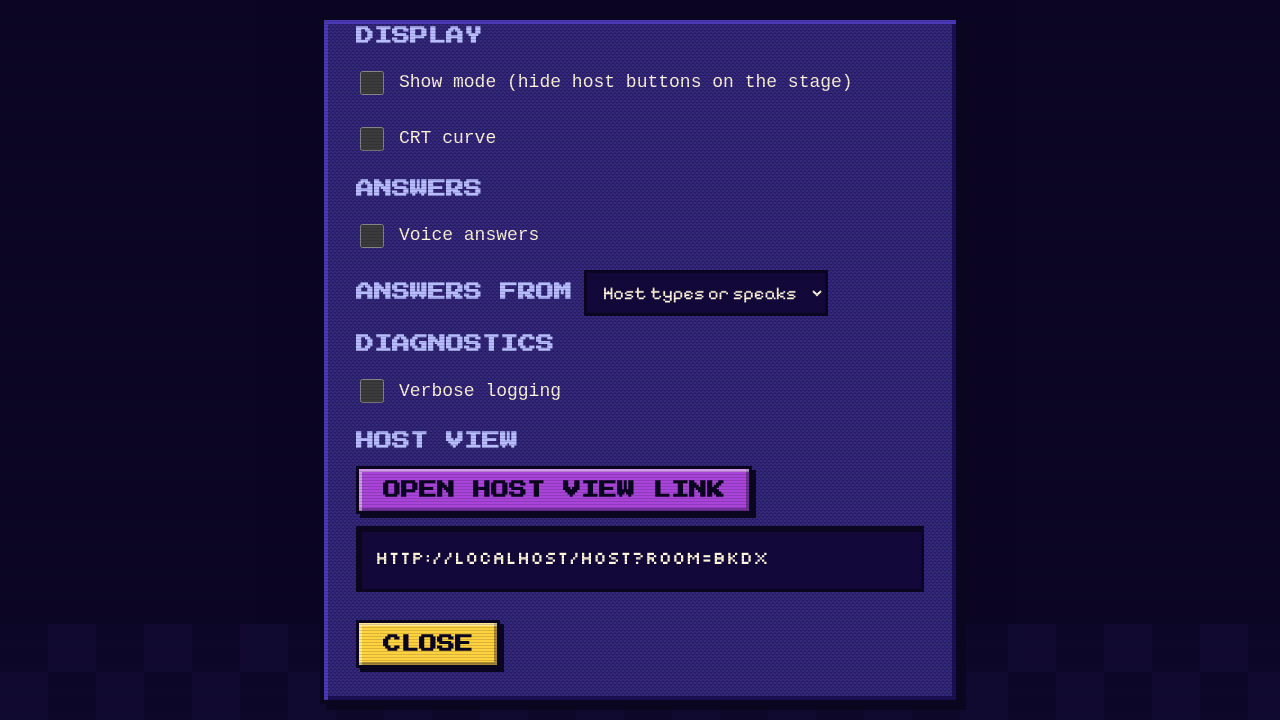
Scenario: SettingsDialog › says so when the clipboard refuses
(page scrolled)
Click the button "Open host view link". click: {"x": 554, "y": 490}
box: [356, 466, 752, 514]
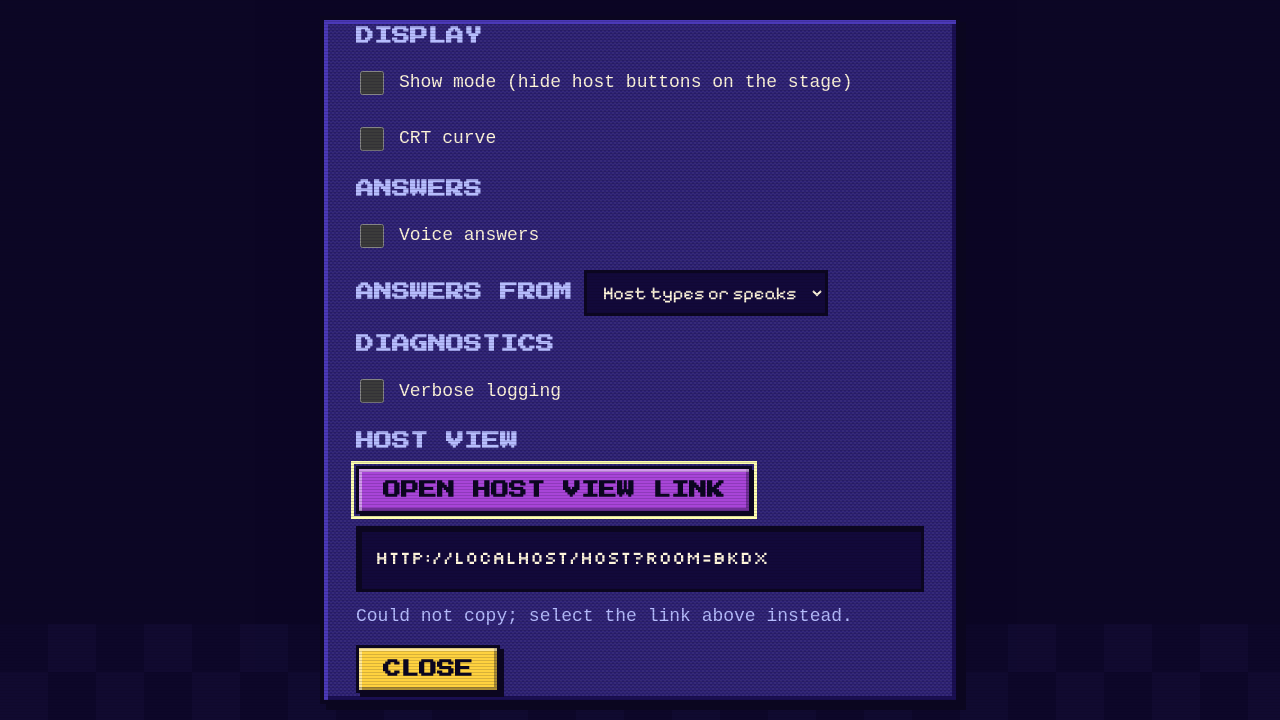
Check: the text "Could not copy; select the link above instead." is shown, box [356, 604, 924, 629]
